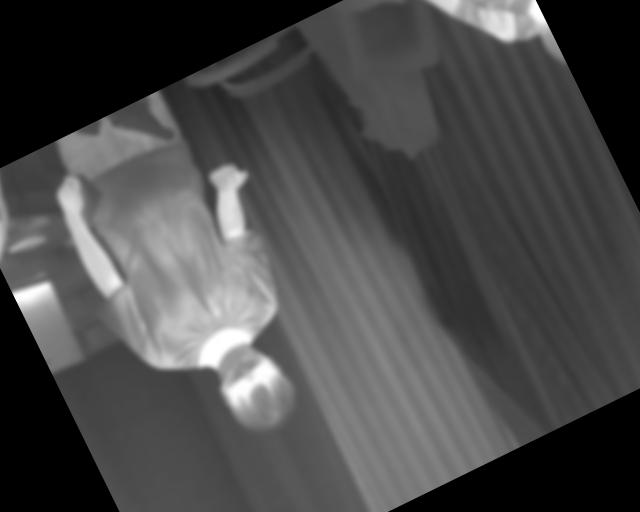face: (203, 329, 306, 443)
